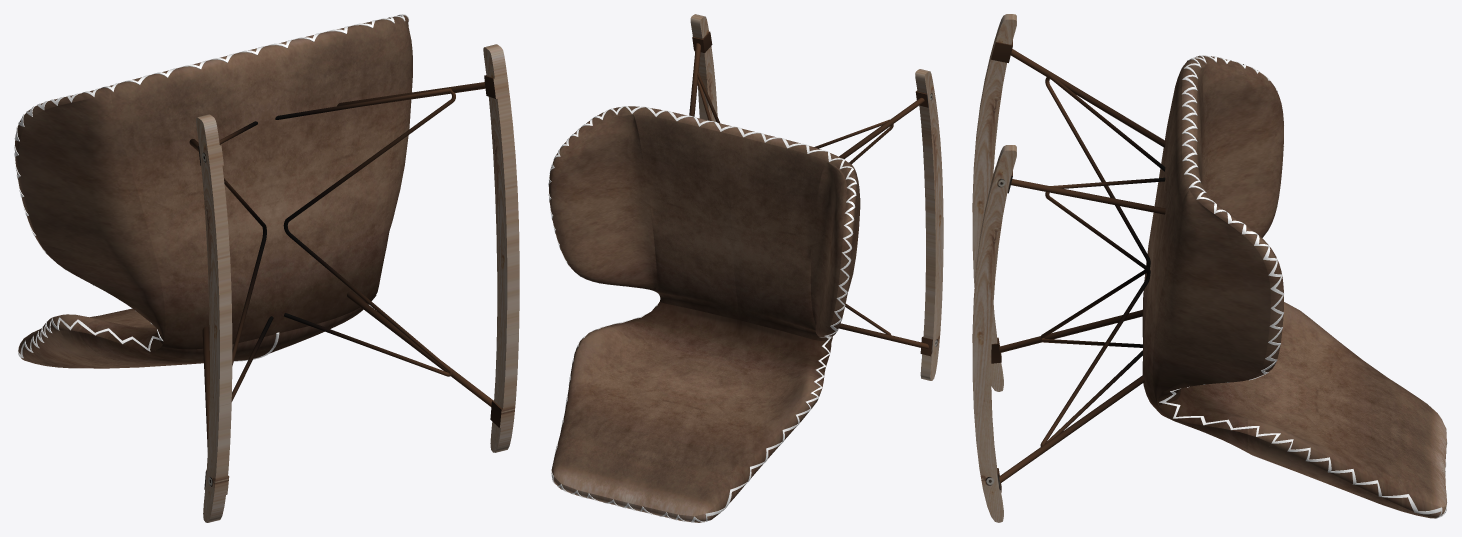
File: asset.gltf
3 renders of one model, left to right at view 1: azimuth 30°, elevation 25°; view 2: azimuth 150°, elevation 25°; view 3: azimuth 270°, elevation 25°, orthographic. The views are drawn at different scales.
Visible parts, largest first — view 1: 3DGeom-1, 3DGeom-4, 3DGeom-3, 3DGeom-2; view 2: 3DGeom-1, 3DGeom-4, 3DGeom-3, 3DGeom-2; view 3: 3DGeom-1, 3DGeom-4, 3DGeom-3, 3DGeom-2.
Boxes of the visible parts, bbox=[...] form: 3DGeom-1: bbox=[15, 15, 412, 368]; 3DGeom-4: bbox=[196, 44, 519, 522]; 3DGeom-3: bbox=[189, 75, 502, 476]; 3DGeom-2: bbox=[14, 14, 408, 361]; 3DGeom-1: bbox=[549, 106, 860, 522]; 3DGeom-4: bbox=[690, 14, 943, 380]; 3DGeom-3: bbox=[689, 31, 932, 356]; 3DGeom-2: bbox=[548, 106, 856, 522]; 3DGeom-1: bbox=[1142, 56, 1446, 518]; 3DGeom-4: bbox=[972, 14, 1016, 522]; 3DGeom-3: bbox=[991, 40, 1165, 491]; 3DGeom-2: bbox=[1159, 55, 1447, 518].
Bounding box in the file's own units: 29.95 × 31.84 × 34.3.
4 materials, 3 textured.
